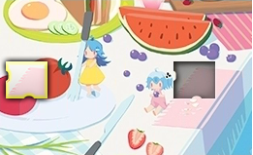gap: (174, 61, 214, 99)
